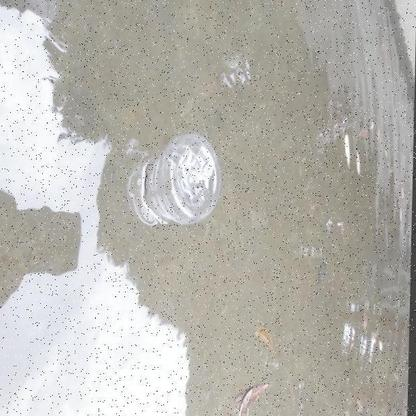plastic bottle: (126, 134, 219, 229)
